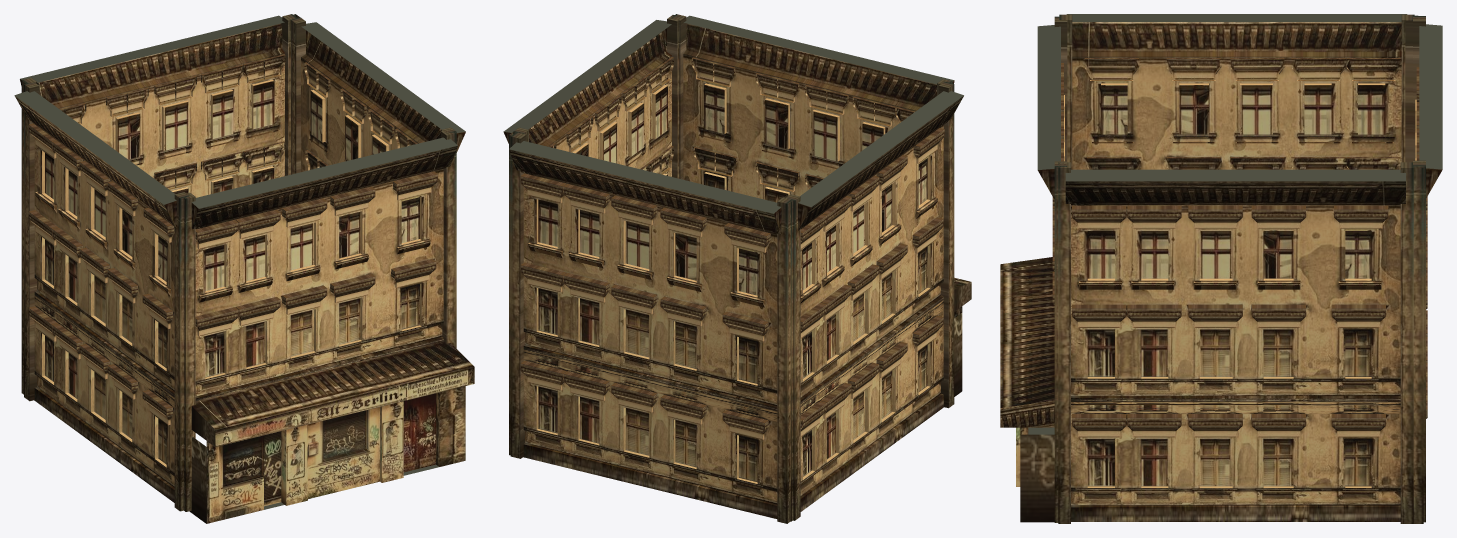
3 views of the same model, side by side, from view 1: azimuth 30°, elevation 25°; view 2: azimuth 150°, elevation 25°; view 3: azimuth 270°, elevation 25° (orthographic). The views are drawn at different scales.
Visible parts, largest first — view 1: Plane.001_Material.002_0; view 2: Plane.001_Material.002_0; view 3: Plane.001_Material.002_0.
Part boxes in pixels (left/top/right/bottom): Plane.001_Material.002_0: left=14, top=14, right=474, bottom=523; Plane.001_Material.002_0: left=503, top=14, right=971, bottom=523; Plane.001_Material.002_0: left=1000, top=14, right=1442, bottom=523.
Size of the model in its own units: 2.56 by 2.56 by 2.86.
Materials: 1 (1 with a texture image).
